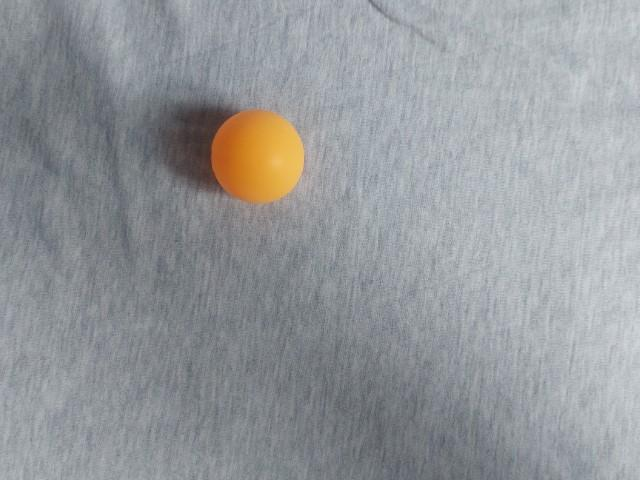oball: (328, 270, 438, 379)
